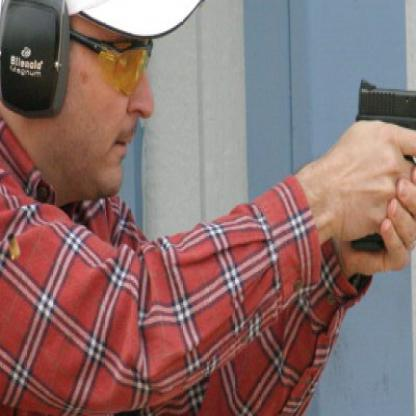gun: (348, 78, 415, 257)
